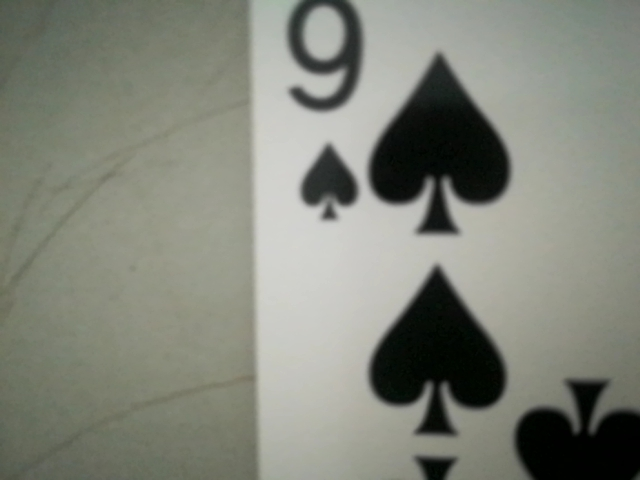ht 9: (271, 0, 377, 232)
